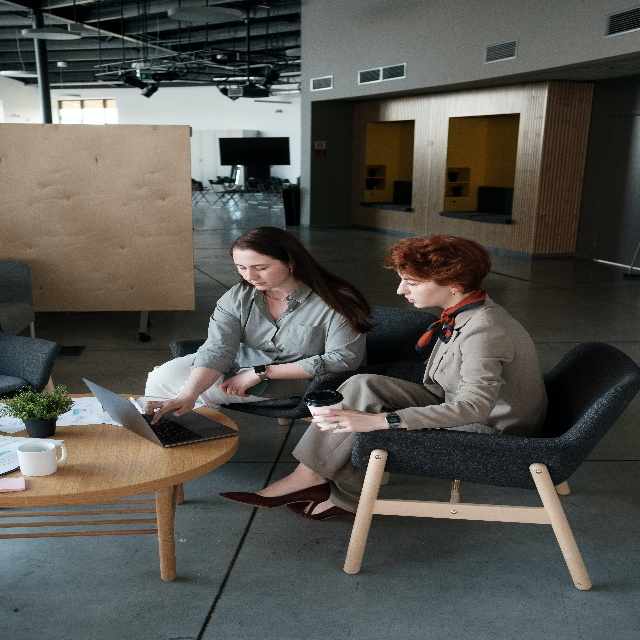Sin_guantes: (310, 399, 378, 433), (142, 395, 195, 424), (218, 368, 260, 399)
